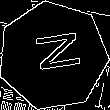N_W: (25, 32, 81, 80)
